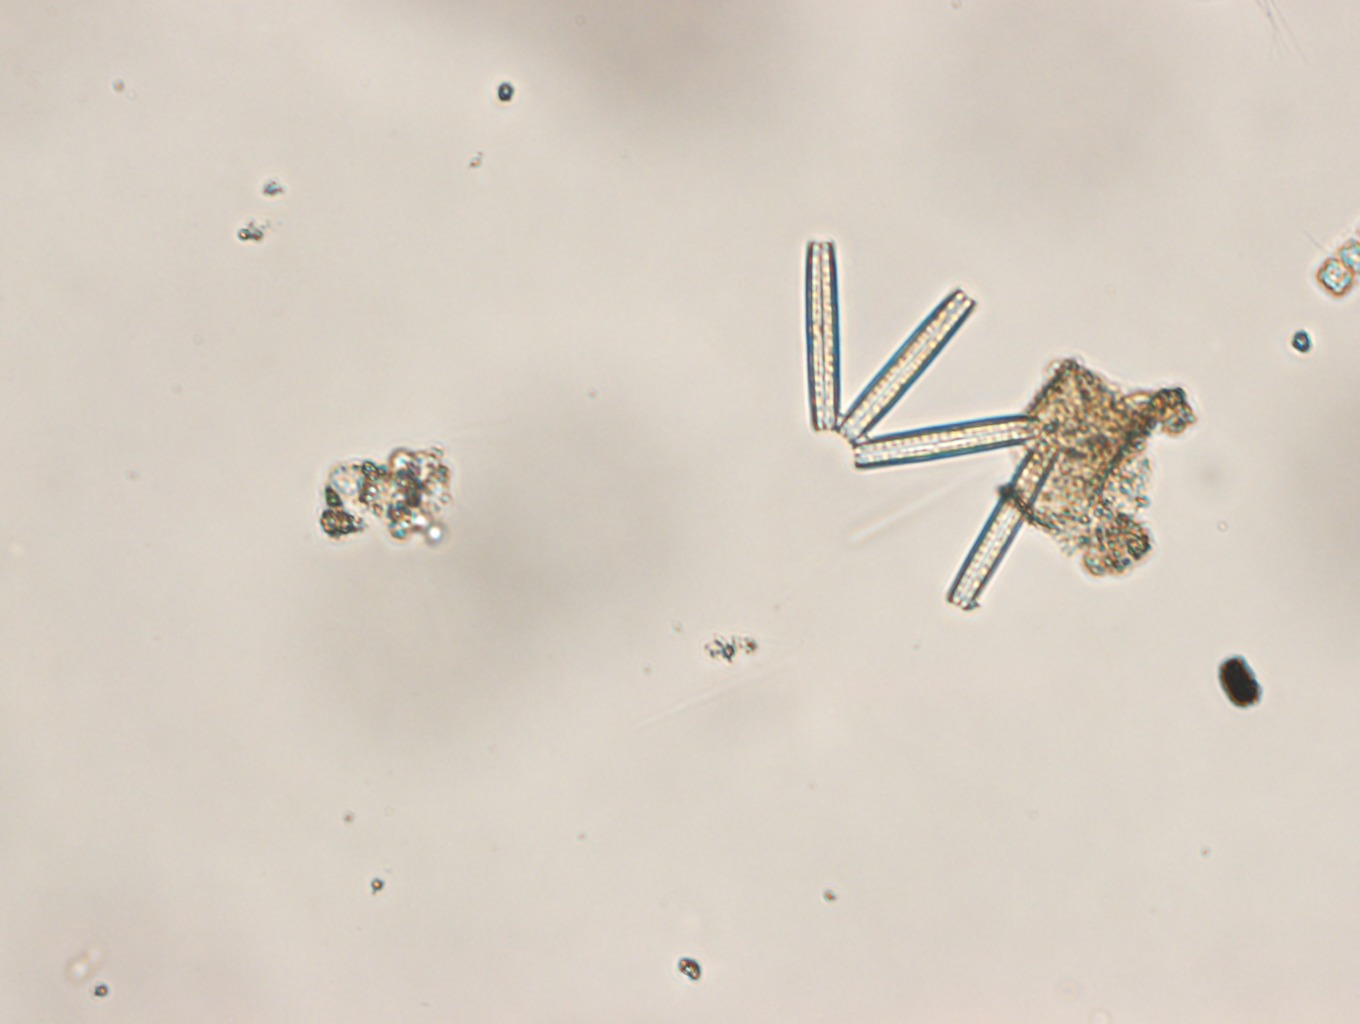thalassionema nitzschioides: (804, 234, 1064, 610)
